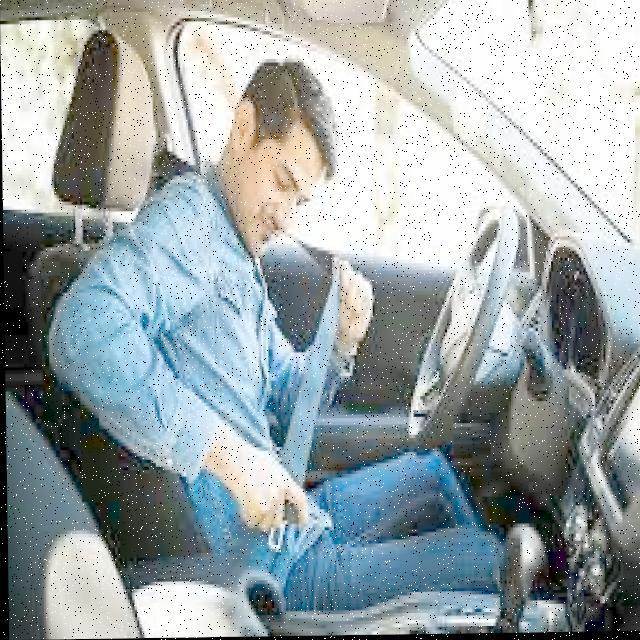seatbelt: (224, 212, 360, 558)
